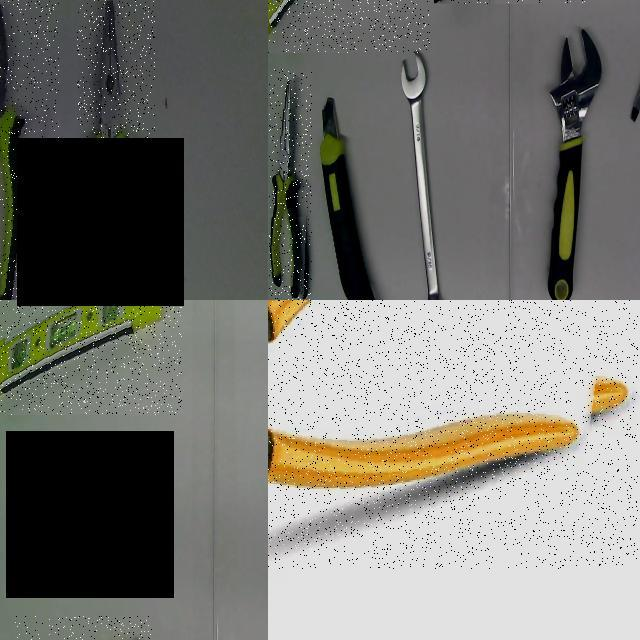estilete: (320, 98, 374, 299)
